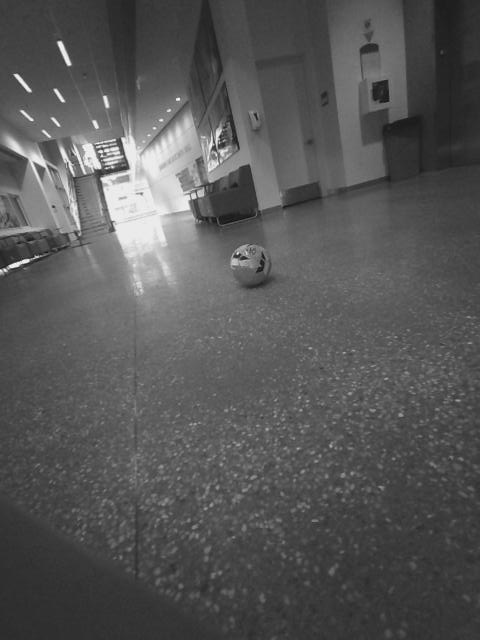ball: (221, 236, 282, 292)
